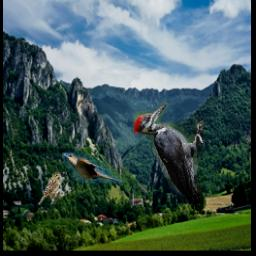Cuckoo: (63, 154, 124, 185)
Sparrow: (37, 173, 60, 206)
Woodpecker: (134, 103, 205, 205)
